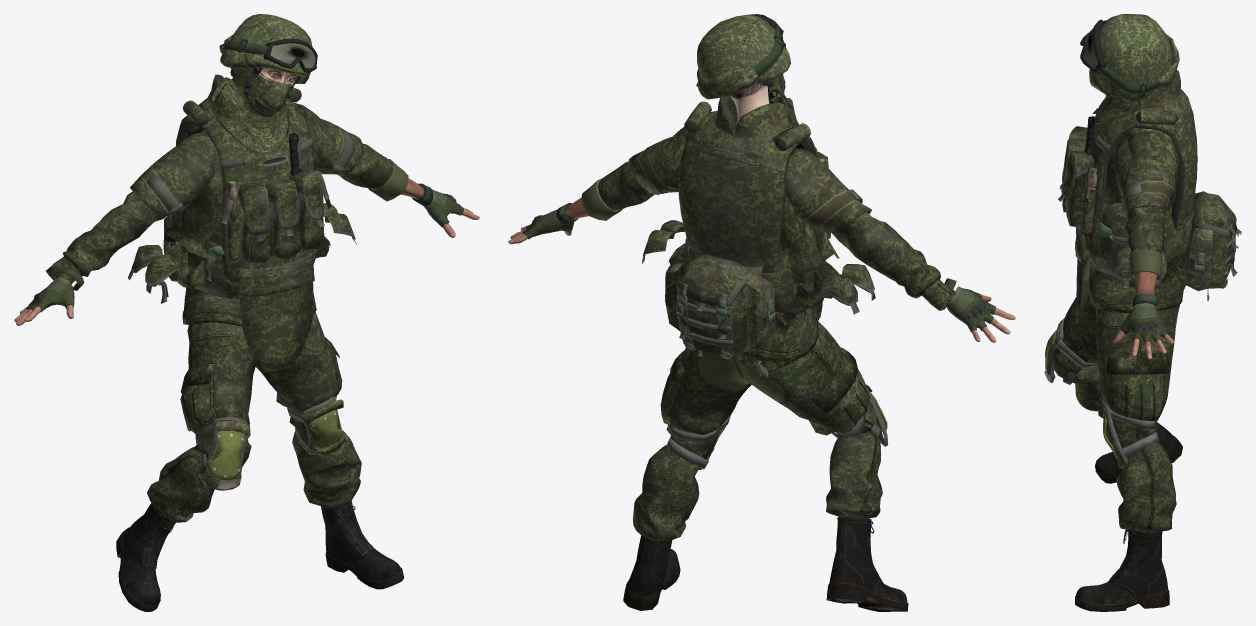
Rendered from corpse_back.glb.
3 views of the same model, side by side, from view 1: azimuth 30°, elevation 25°; view 2: azimuth 150°, elevation 25°; view 3: azimuth 270°, elevation 25° (orthographic). The views are drawn at different scales.
Parts seen in each view (by area): view 1: Object_2; view 2: Object_2; view 3: Object_2.
Boxes of the visible parts, x1,y1,x2,y2 form: Object_2: (14, 14, 479, 611); Object_2: (508, 14, 1015, 611); Object_2: (1044, 14, 1241, 611).
Size of the model in its own units: 1.51 by 1.77 by 0.5786.
5 materials, 5 textured.
